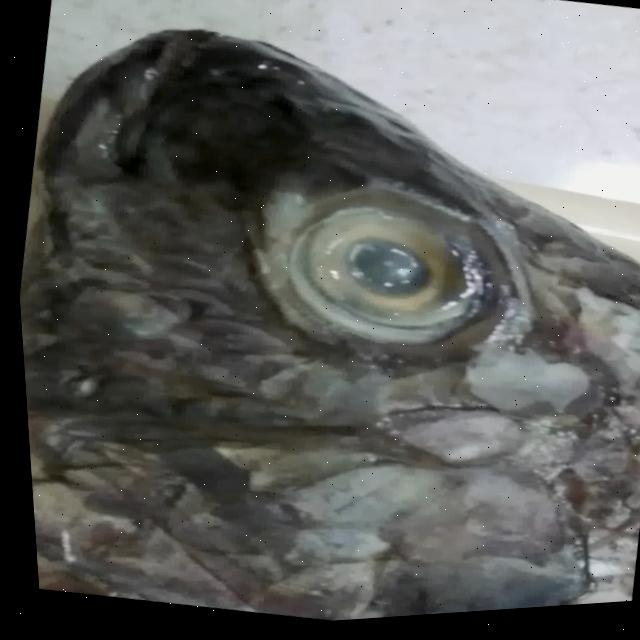Non-Fresh: (204, 143, 563, 418)
